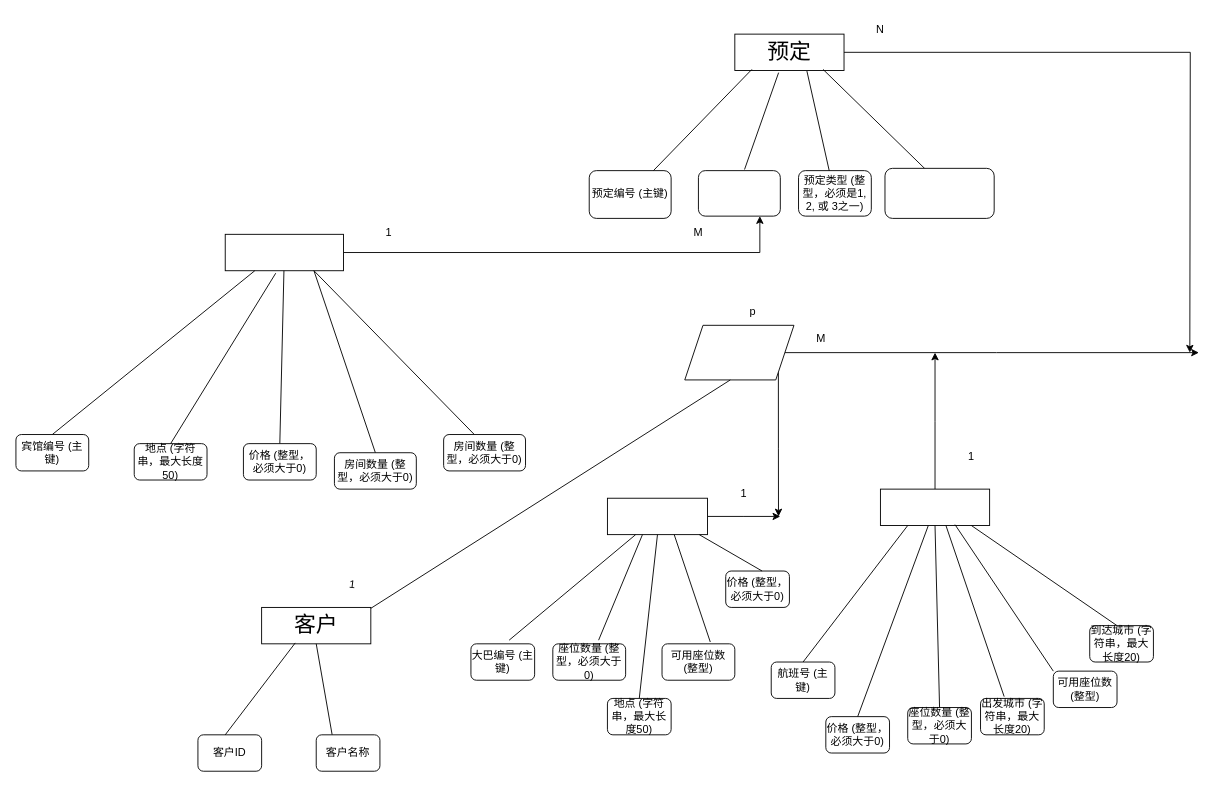
Some shapes in this 1222 by 787 pixel diagram are drawn without their labels. The shapes that lost their labels are listed below. From the top down, each one's centre as x and y in pixels, then its label:
point (739, 193): 客户ID (外键，与客户数据表的客户ID相对应)
point (939, 192): 预定键 (字符串，必须是航班号、宾馆编号或大巴编号之一)
point (284, 252): 宾馆
point (739, 352): 出行方式
point (657, 516): 大巴车
point (935, 507): 飞机
